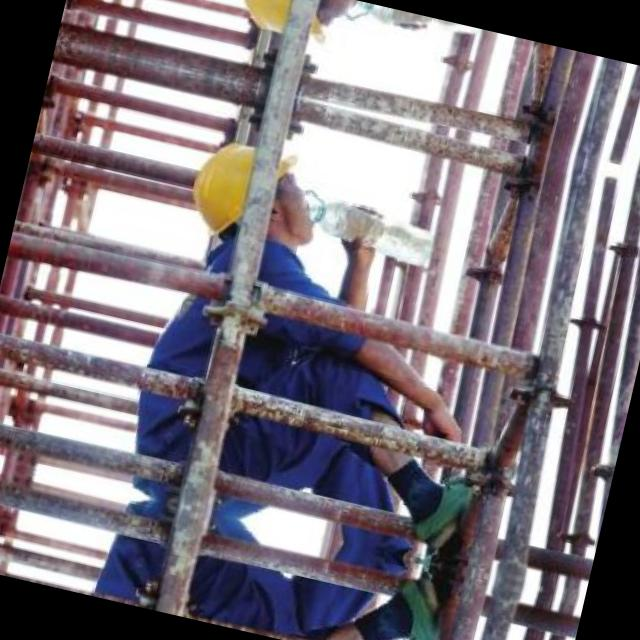helmet: (181, 126, 335, 262), (228, 0, 371, 59)
